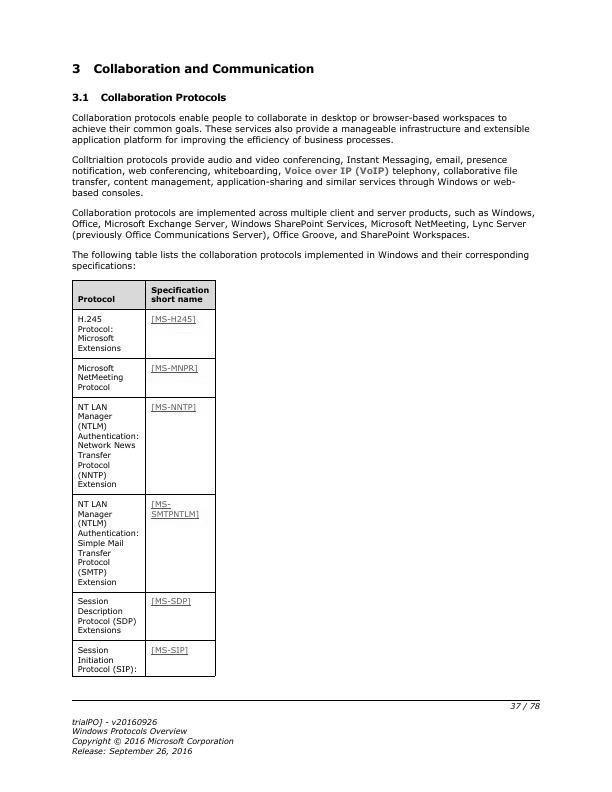table: (70, 279, 218, 681)
text: (67, 154, 520, 198), (68, 205, 537, 242), (67, 110, 533, 147), (70, 247, 530, 273), (67, 716, 238, 757), (70, 60, 318, 79), (68, 89, 231, 105)
